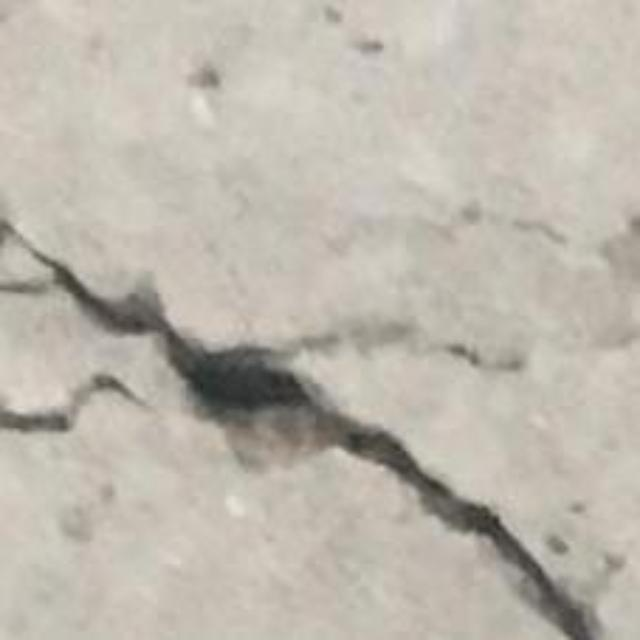crack: (0, 220, 597, 639)
